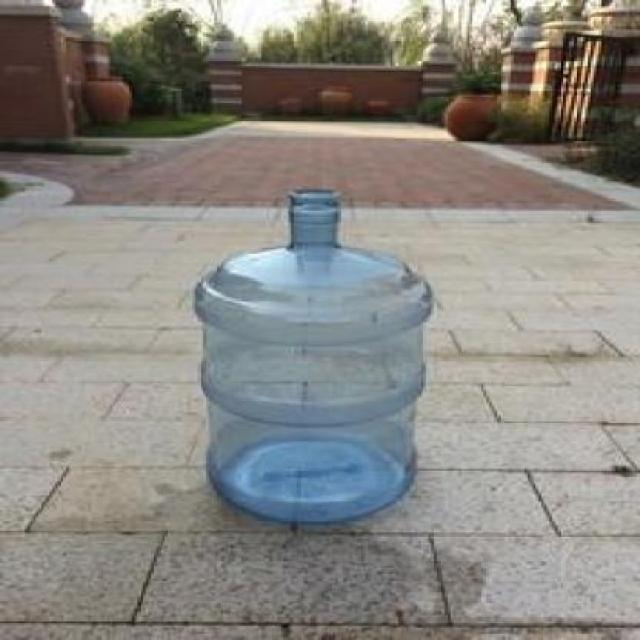coolerbottle: (189, 185, 443, 527)
